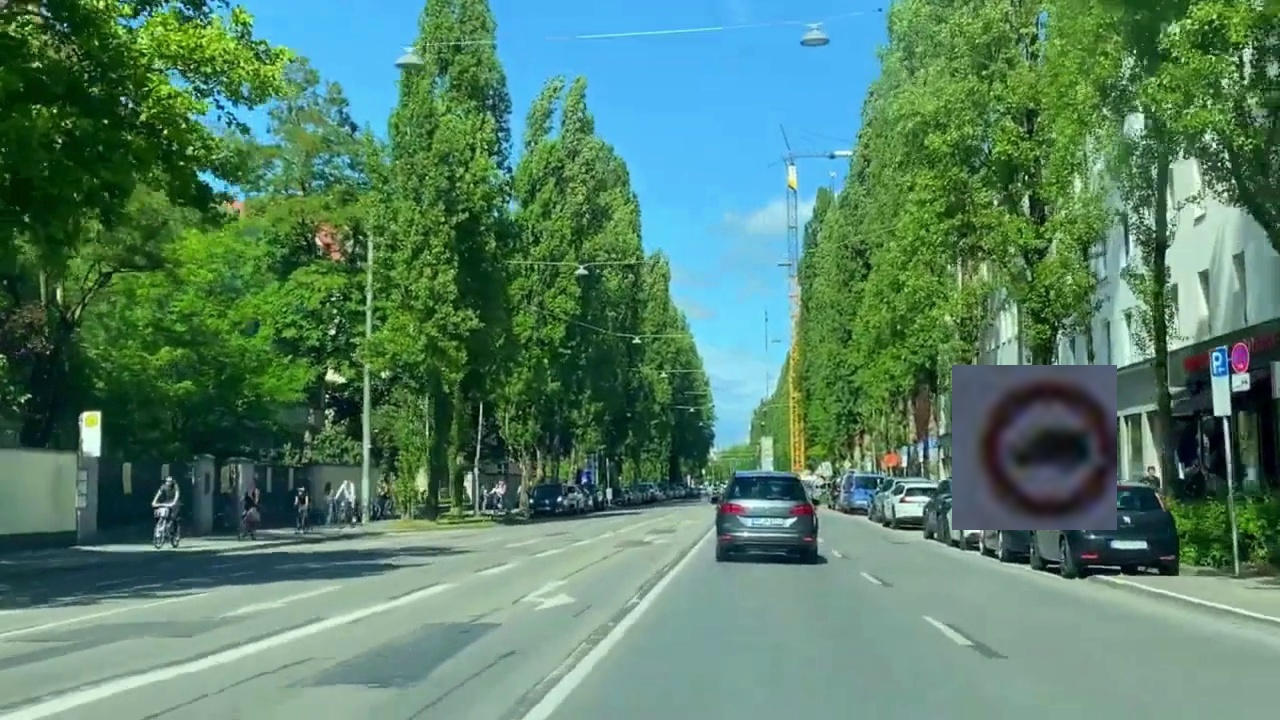Veh >3.5t prohib: (952, 365, 1117, 530)
